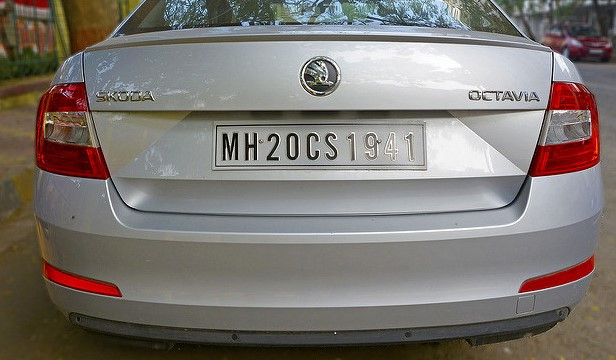MH20CS1941: (214, 124, 425, 167)
